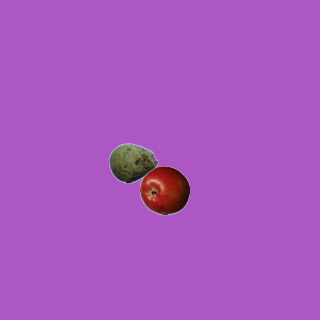Apple Braeburn: (139, 165, 189, 215)
Pear Stone: (108, 138, 158, 188)
